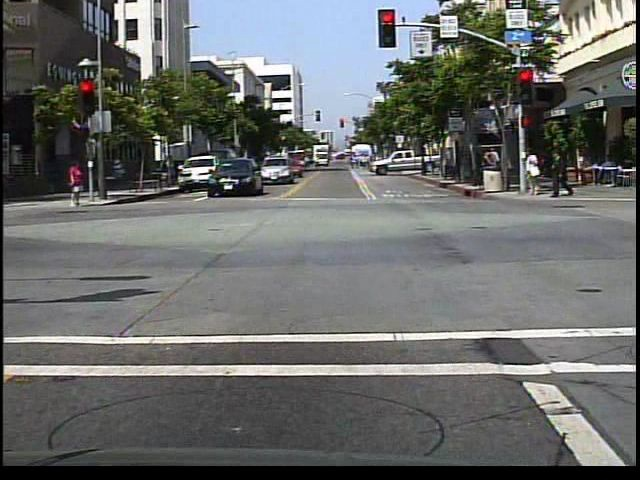person: (548, 147, 574, 200), (523, 144, 544, 198), (67, 159, 88, 211)
